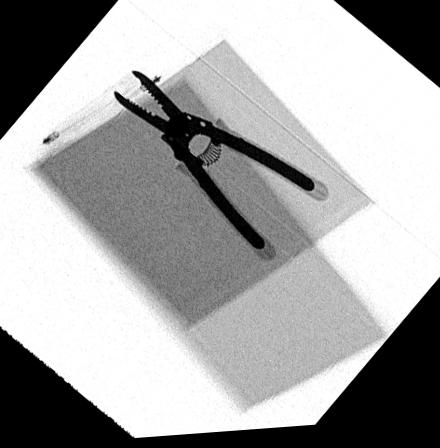Pliers: (111, 71, 317, 260)
